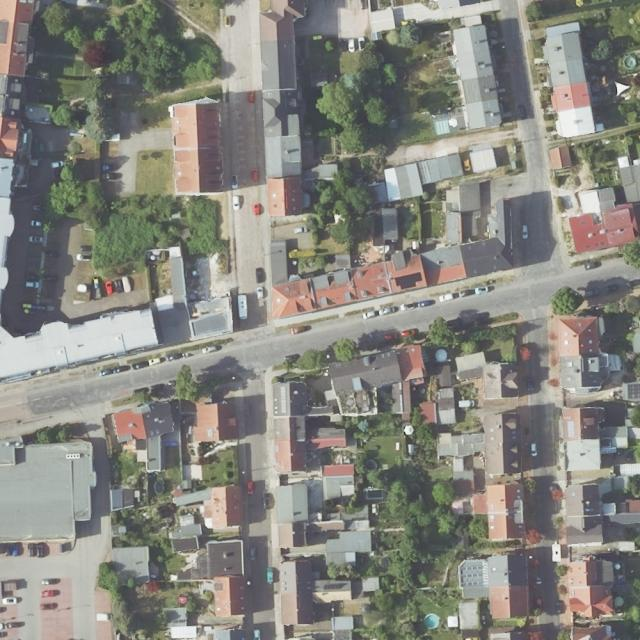PV: (627, 383, 640, 400), (280, 385, 286, 412), (567, 421, 575, 438), (460, 566, 483, 571), (460, 573, 484, 577), (461, 582, 484, 586)
ST: (395, 272, 422, 289)
